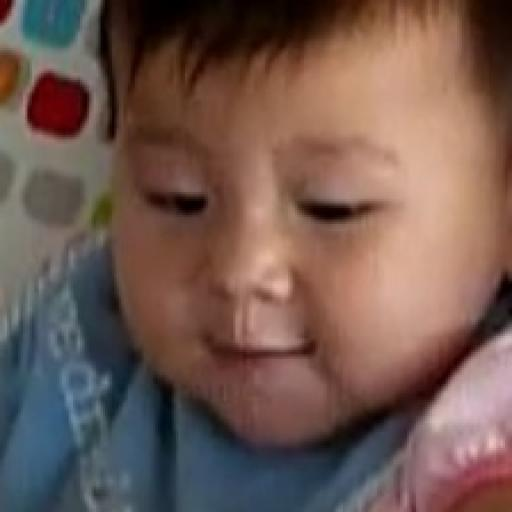Autism: (89, 0, 512, 471)
